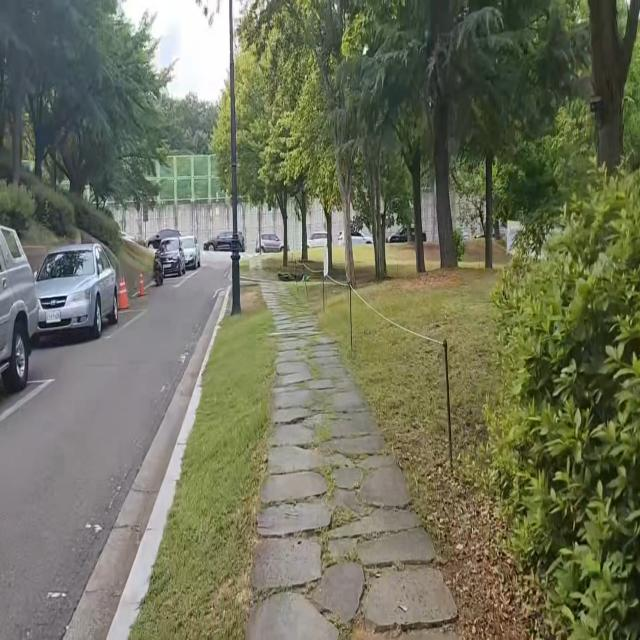obstacle: (28, 230, 122, 353), (0, 209, 43, 412), (228, 0, 242, 311), (148, 227, 204, 296)
road: (0, 258, 233, 640)
sidewalk: (112, 273, 499, 640)
